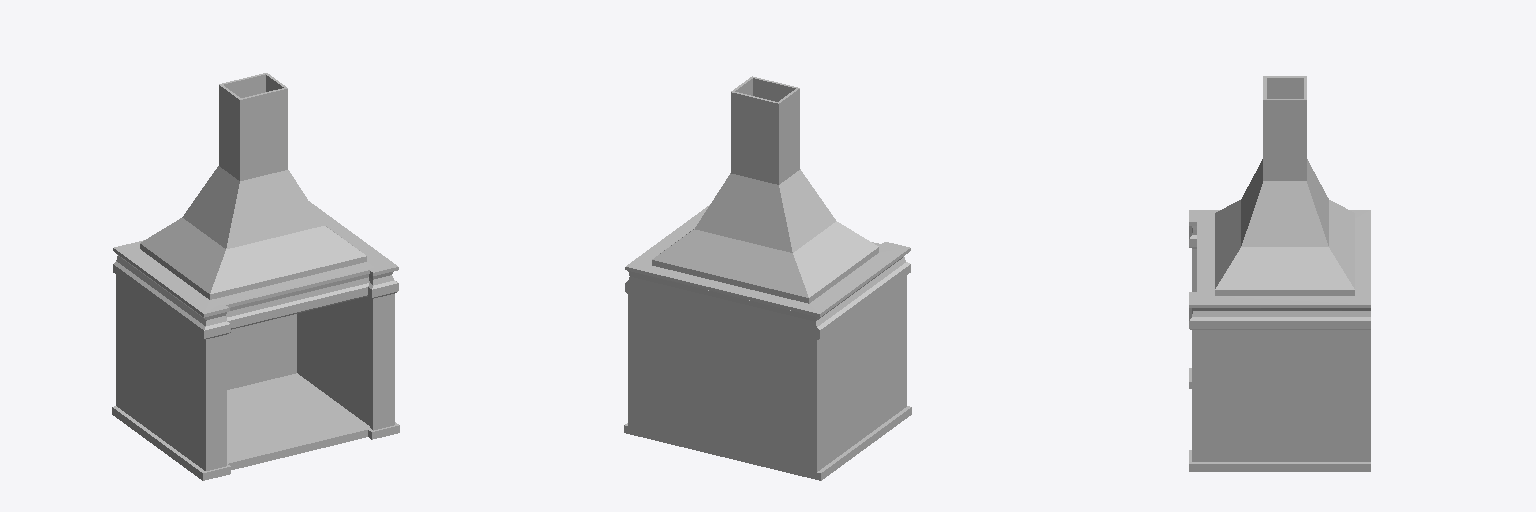
The model's file is Bonito Factory fireplace.obj.
3 views of the same model, side by side, from view 1: azimuth 30°, elevation 25°; view 2: azimuth 150°, elevation 25°; view 3: azimuth 270°, elevation 25° (orthographic).
Visible parts, largest first — view 1: Fireplace_Final; view 2: Fireplace_Final; view 3: Fireplace_Final.
Boxes of the visible parts, box(x1,y1,x2,y2) form: Fireplace_Final: box(112, 73, 399, 480); Fireplace_Final: box(624, 76, 911, 480); Fireplace_Final: box(1189, 76, 1370, 471).
Bounding box in the file's own units: 5.77 × 9.39 × 4.61.